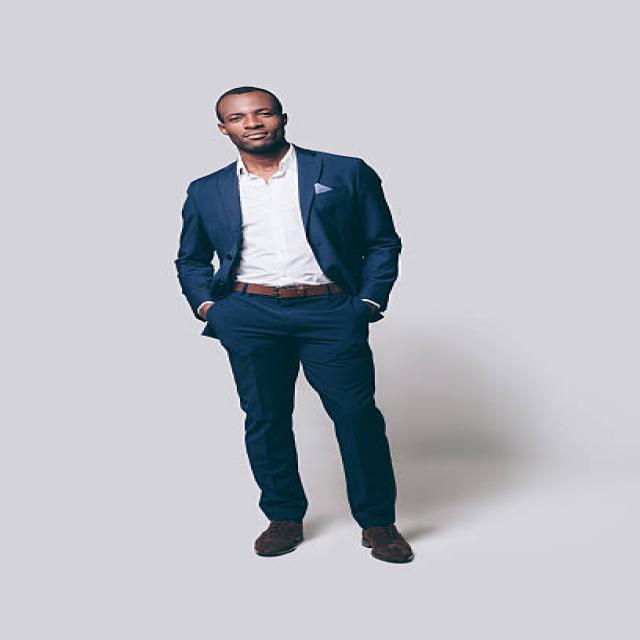Edited images: (150, 71, 444, 578)
